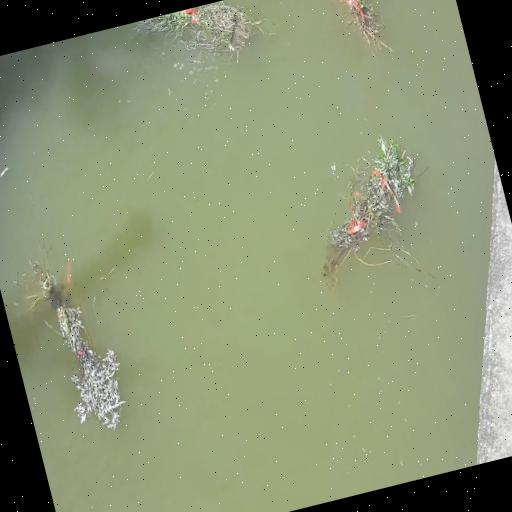twig: (294, 129, 445, 294), (129, 0, 269, 89), (48, 293, 134, 436), (0, 235, 70, 318), (318, 0, 393, 66)
